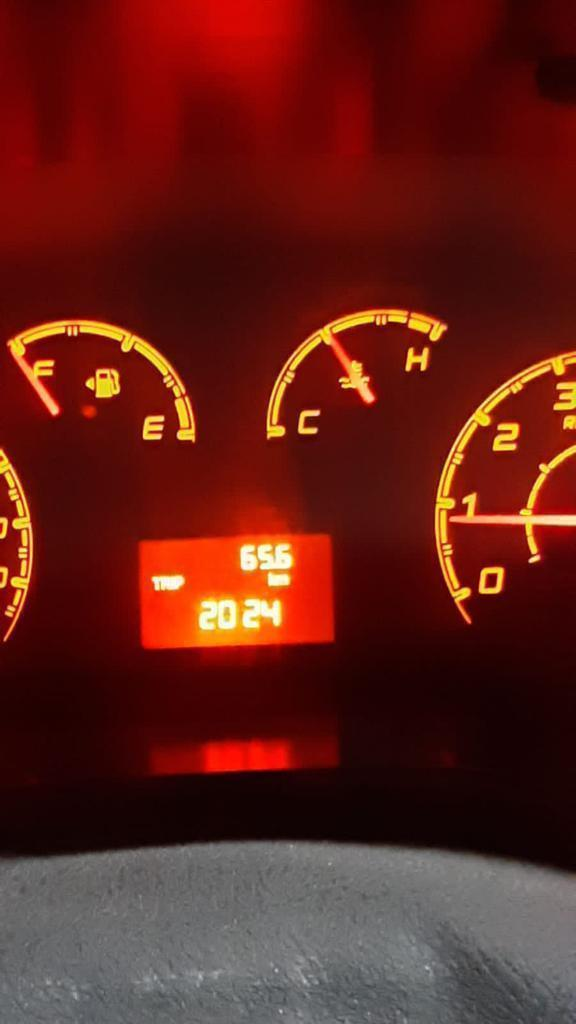,: (272, 562, 276, 569)
0: (217, 598, 236, 630)
2: (240, 597, 260, 629), (197, 599, 217, 631)
4: (260, 598, 281, 628)
5: (257, 543, 273, 570)
6: (238, 543, 257, 570), (275, 543, 292, 569)
X: (276, 573, 290, 587), (266, 571, 276, 587), (150, 575, 160, 591), (175, 574, 185, 589), (160, 576, 170, 590), (170, 576, 175, 590)
odometer: (131, 529, 340, 652)
